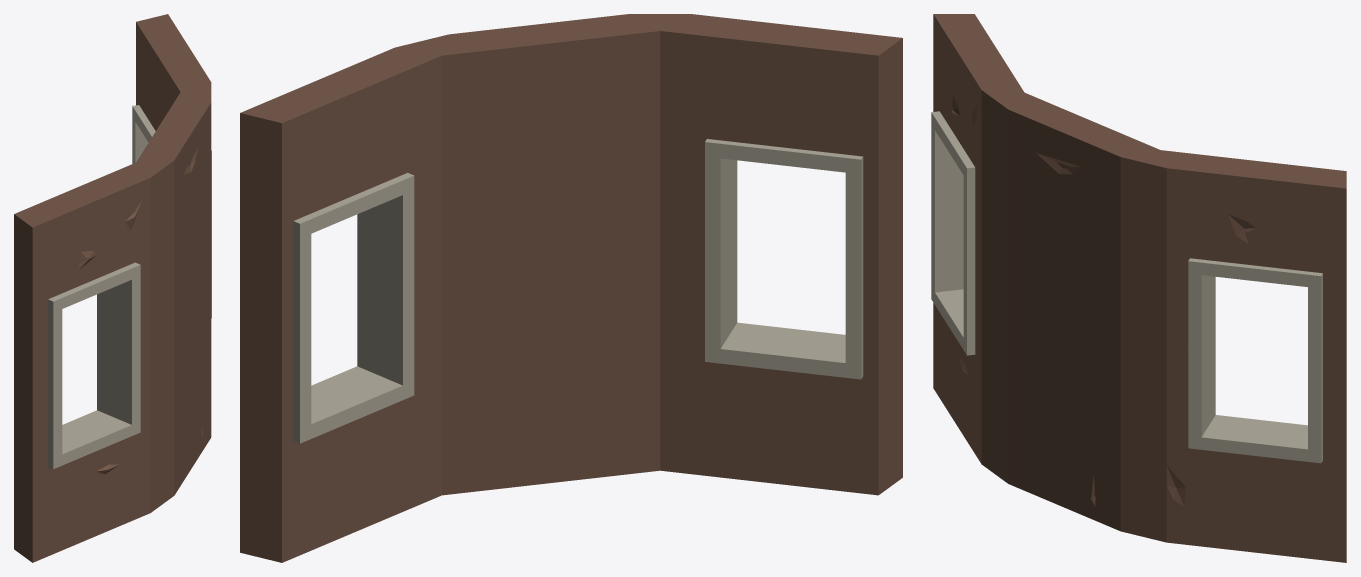
File: victorian_wall_curved_1_window_2.fbx
3 renders of one model, left to right at view 1: azimuth 30°, elevation 25°; view 2: azimuth 150°, elevation 25°; view 3: azimuth 270°, elevation 25°, orthographic. The views are drawn at different scales.
Parts seen in each view (by area): view 1: Cylinder.005; view 2: Cylinder.005; view 3: Cylinder.005.
Part boxes in pixels (box(x1,y1,x2,y2)): Cylinder.005: box(14, 14, 211, 562); Cylinder.005: box(240, 14, 902, 562); Cylinder.005: box(931, 14, 1346, 562).
Bounding box in the file's own units: 300 × 300 × 301.
